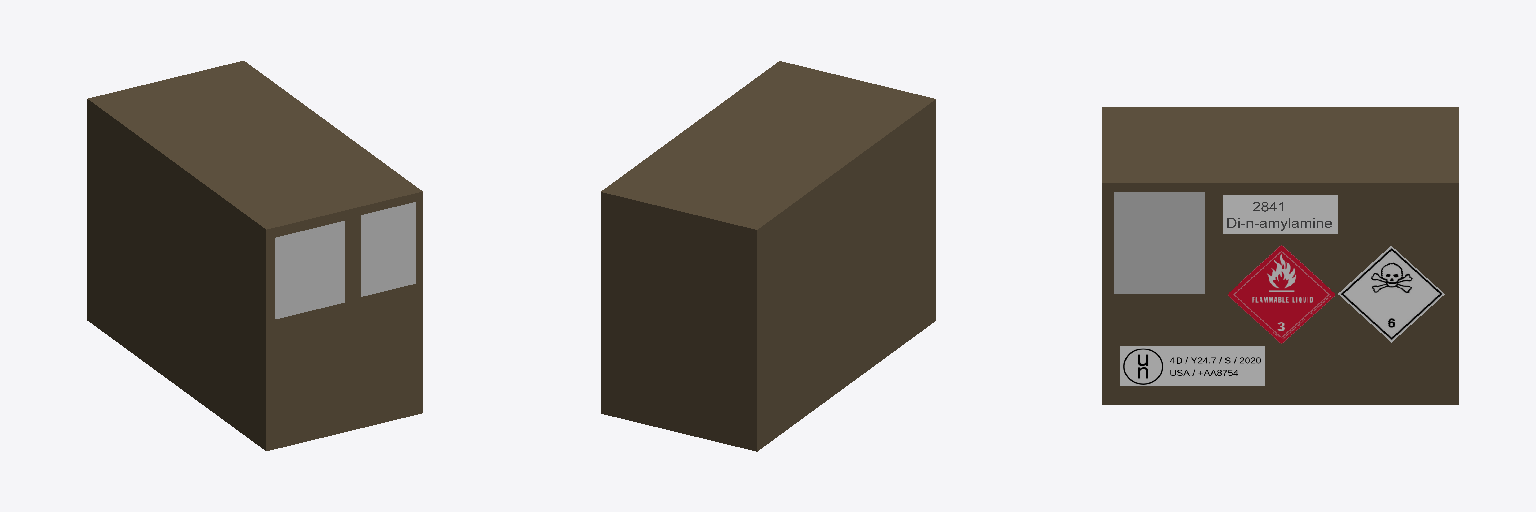
The picture shows the model from 3 angles: view 1: azimuth 30°, elevation 25°; view 2: azimuth 150°, elevation 25°; view 3: azimuth 270°, elevation 25°; orthographic projection.
Visible parts, largest first — view 1: Cube, Screenshot_2025-04-01_151141, Screenshot_2025-04-02_141838; view 2: Cube; view 3: Cube, Screenshot_2025-04-02_141724, image29, image32, image53, text1.
Part boxes in pixels (x1,y1,x2,y2): Cube: (87,61,422,450); Screenshot_2025-04-01_151141: (275,221,344,318); Screenshot_2025-04-02_141838: (361,202,415,296); Cube: (601,61,935,451); Cube: (1102,107,1458,404); Screenshot_2025-04-02_141724: (1114,192,1204,293); image29: (1120,346,1264,385); image32: (1228,245,1334,343); image53: (1338,246,1444,342); text1: (1223,195,1337,233).
Bounding box in the file's own units: 2.02 × 2.71 × 3.97.
8 materials, 4 textured.